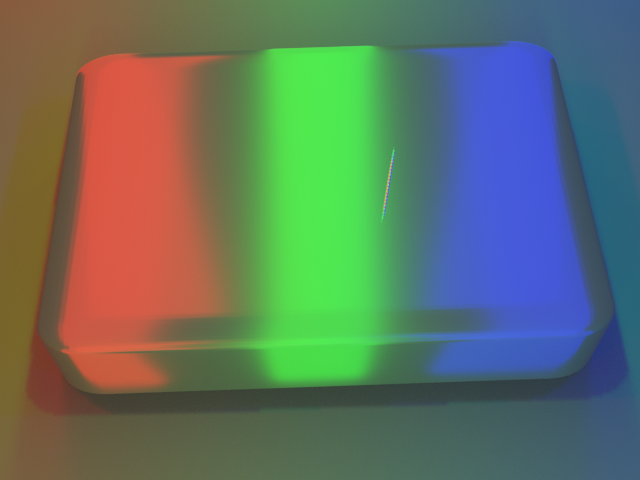scratch: (234, 89, 561, 275)
